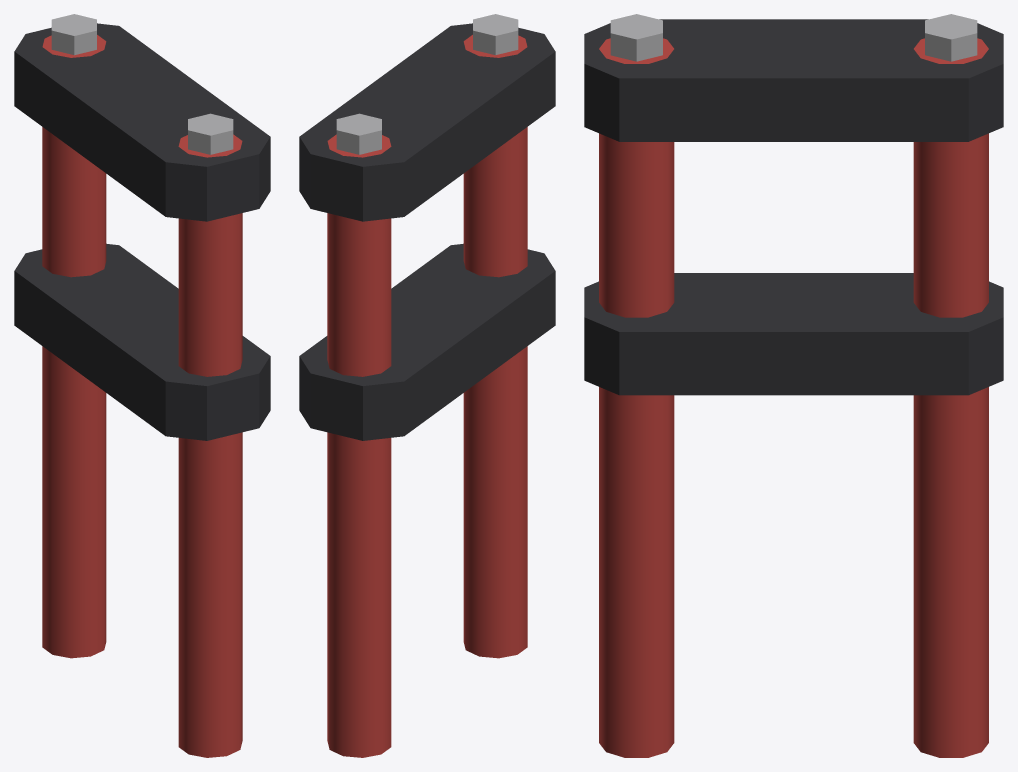
The model's file is classic_gaiter_fork_upper_lod1.glb.
3 views of the same model, side by side, from view 1: azimuth 30°, elevation 25°; view 2: azimuth 150°, elevation 25°; view 3: azimuth 270°, elevation 25° (orthographic). The views are drawn at different scales.
Visible parts, largest first — view 1: classic_gaiter_fork_upper_lod1; view 2: classic_gaiter_fork_upper_lod1; view 3: classic_gaiter_fork_upper_lod1.
Boxes of the visible parts, x1=… form: classic_gaiter_fork_upper_lod1: x1=14, y1=14, x2=270, y2=757; classic_gaiter_fork_upper_lod1: x1=299, y1=14, x2=555, y2=757; classic_gaiter_fork_upper_lod1: x1=584, y1=14, x2=1003, y2=757.
Bounding box in the file's own units: 0.08 × 0.452 × 0.24.
